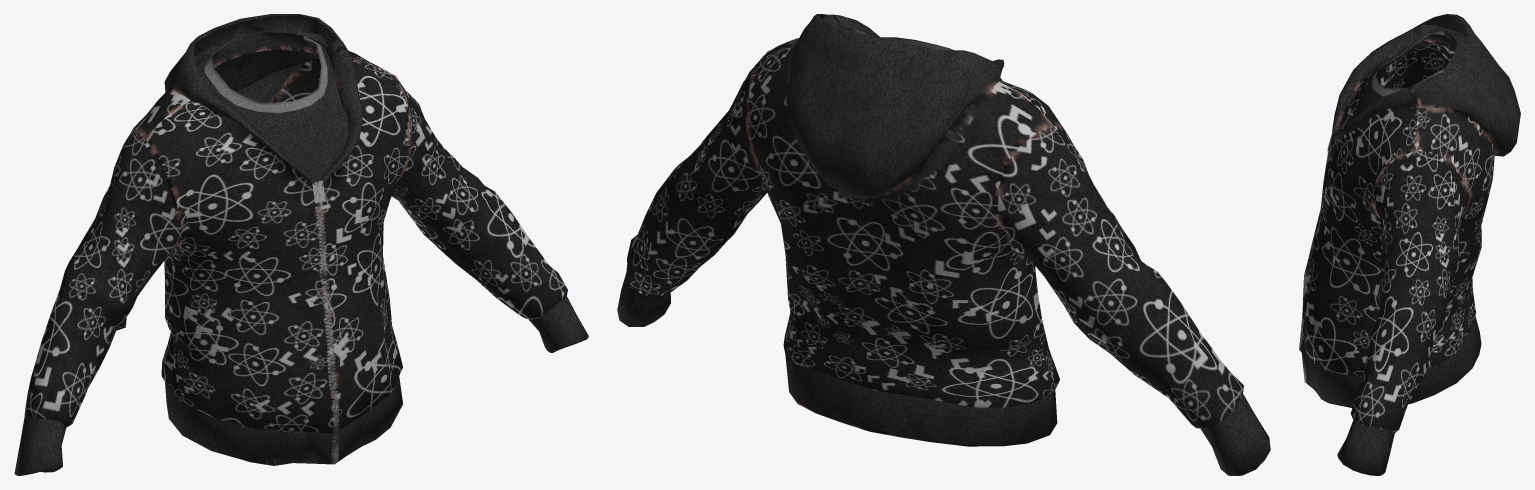
Rendered from hoodie-3.glb.
3 renders of one model, left to right at view 1: azimuth 30°, elevation 25°; view 2: azimuth 150°, elevation 25°; view 3: azimuth 270°, elevation 25°, orthographic. The views are drawn at different scales.
Parts seen in each view (by area): view 1: Null; view 2: Null; view 3: Null.
Part boxes in pixels (left/top/right/bottom): Null: left=14, top=14, right=588, bottom=475; Null: left=617, top=14, right=1270, bottom=475; Null: left=1299, top=14, right=1520, bottom=475.
Bounding box in the file's own units: 0.00975 × 0.00624 × 0.00364.
1 material, 1 textured.
